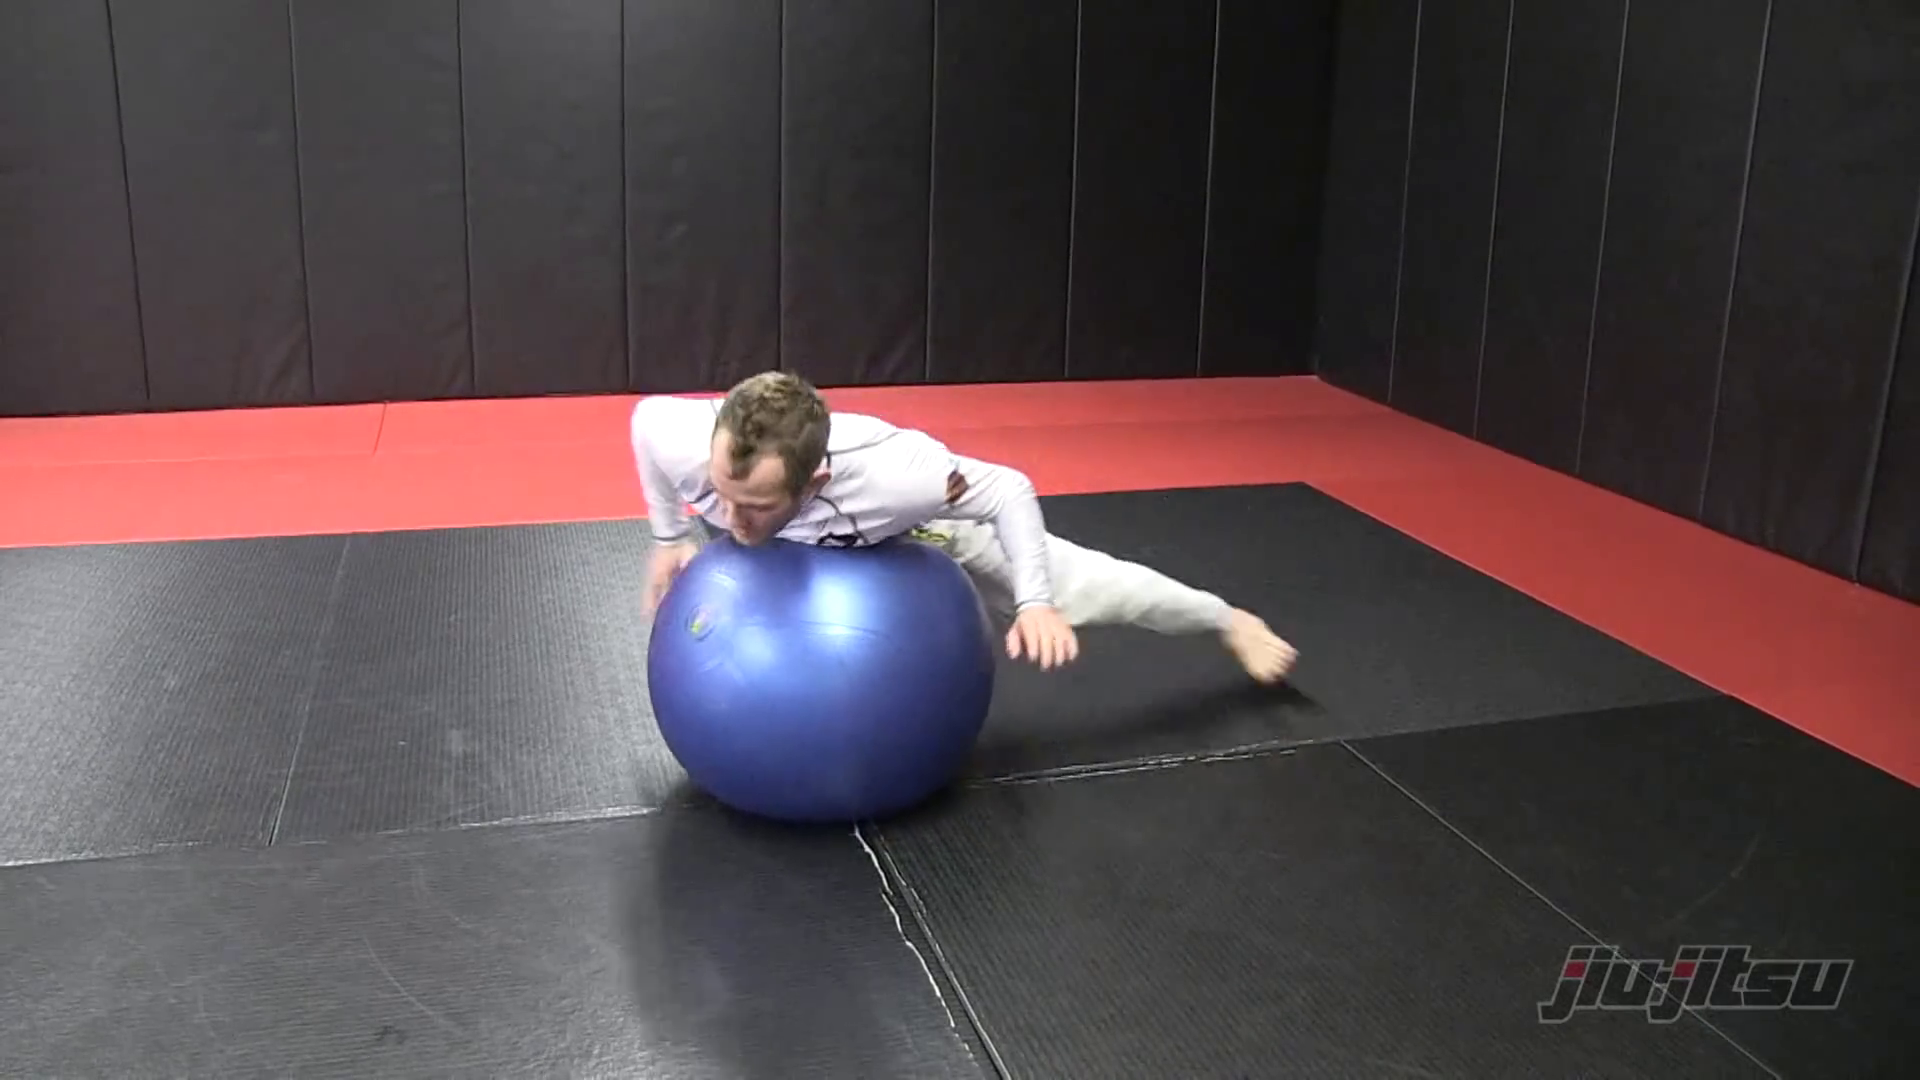yogaball: (636, 531, 1000, 835)
